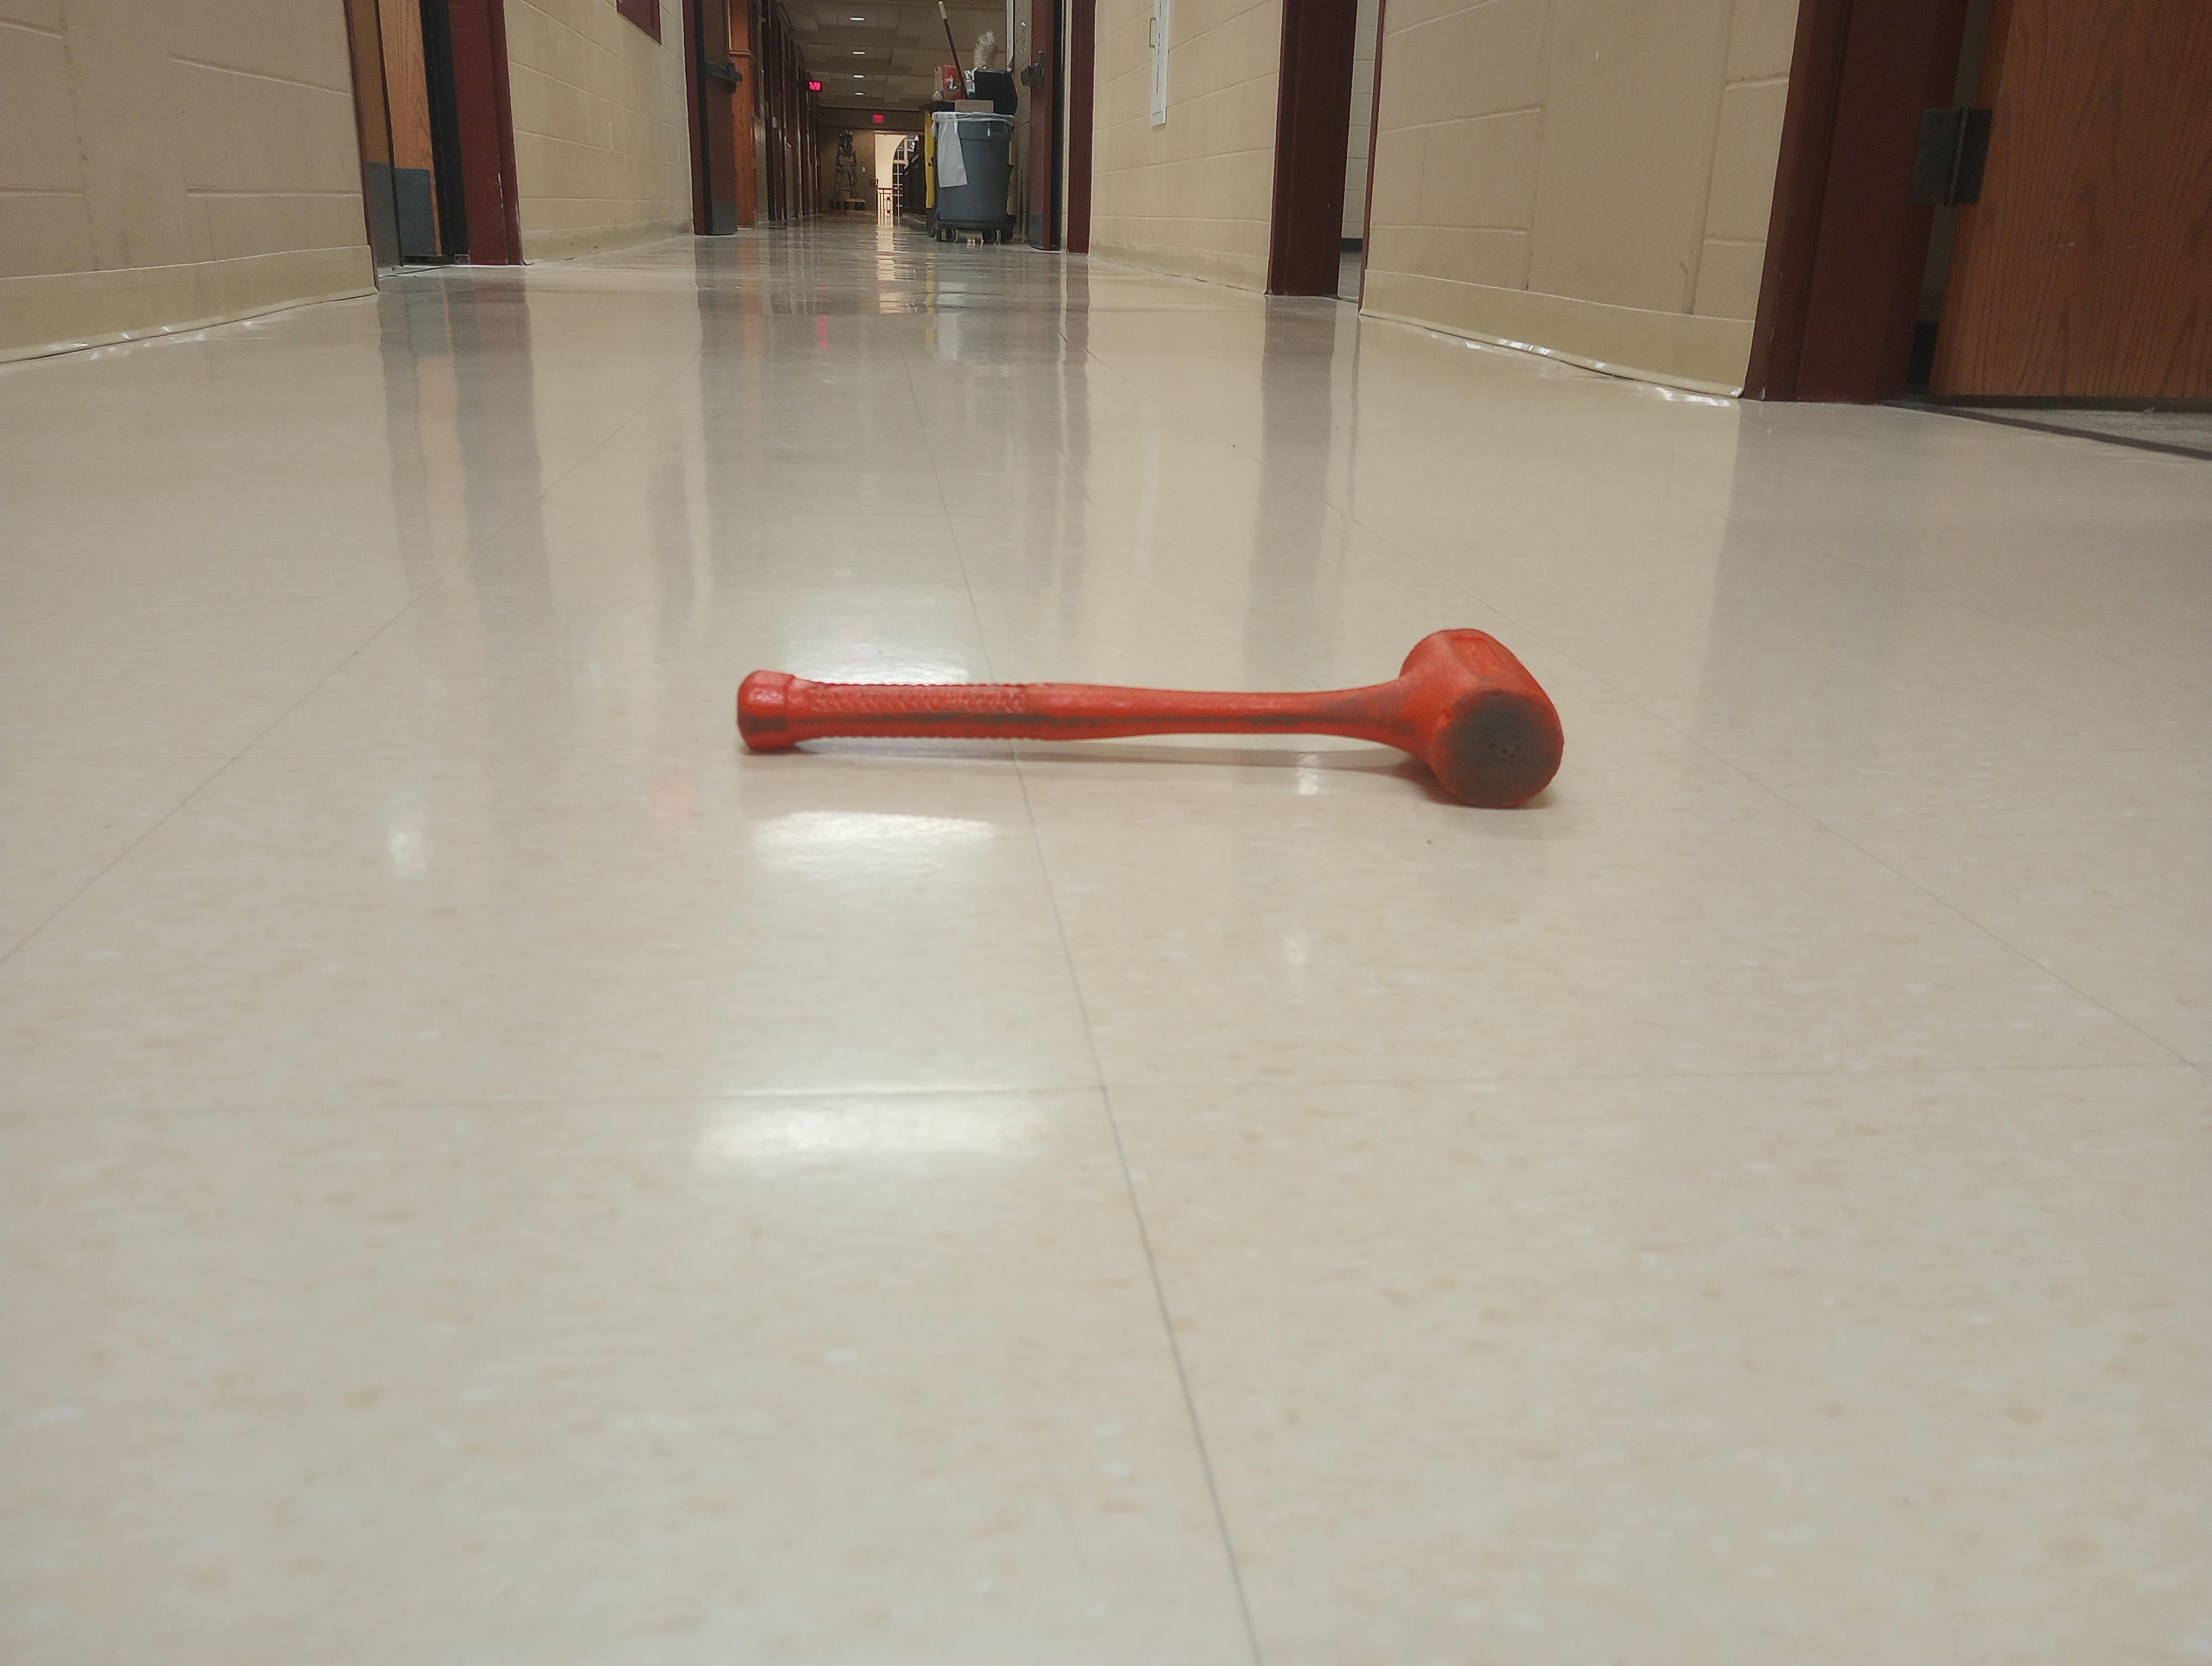bottle: (729, 613, 1570, 817)
